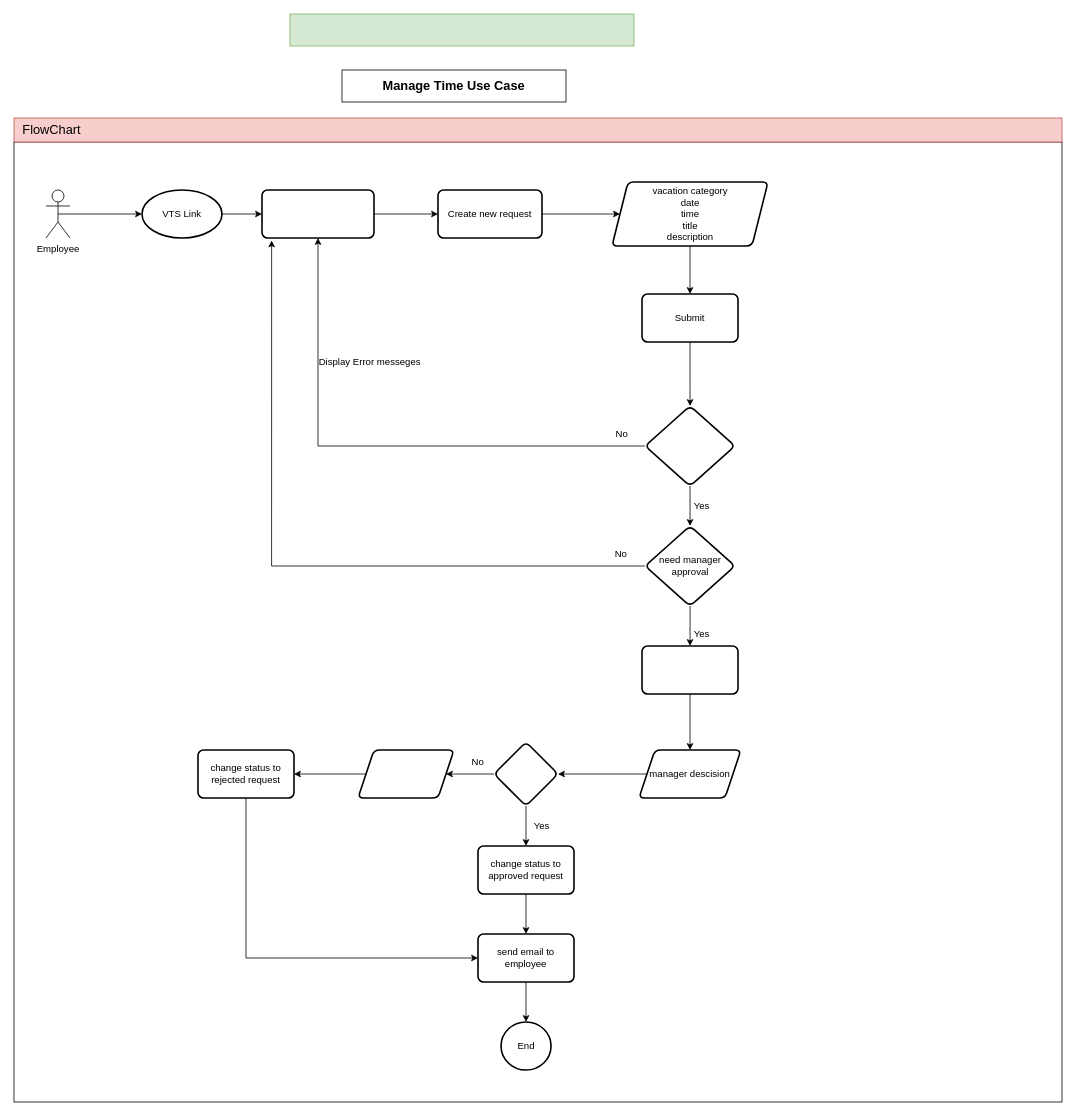
Image size: 1076x1116. Some labels were removed from this diagram. Each missing label, with the centre of its shape:
approved: (x=525, y=773)
Display his Requests: (x=317, y=213)
manager Explanation: (x=405, y=773)
Send Email to manager: (x=689, y=669)
Vacation Tracking System: (x=461, y=29)
valid inputs: (x=689, y=445)
